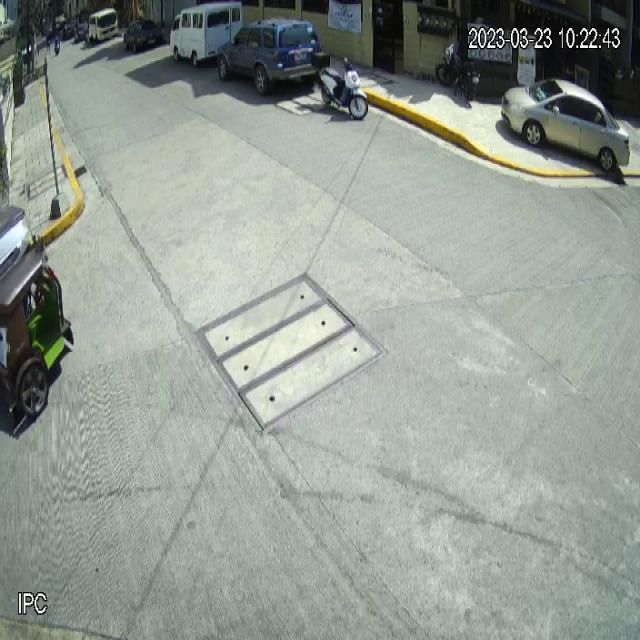Car: (500, 76, 631, 172), (216, 17, 323, 97)
Motorcycle: (310, 50, 369, 122)
Tricycle: (0, 199, 77, 440)
Van: (169, 0, 244, 69)
